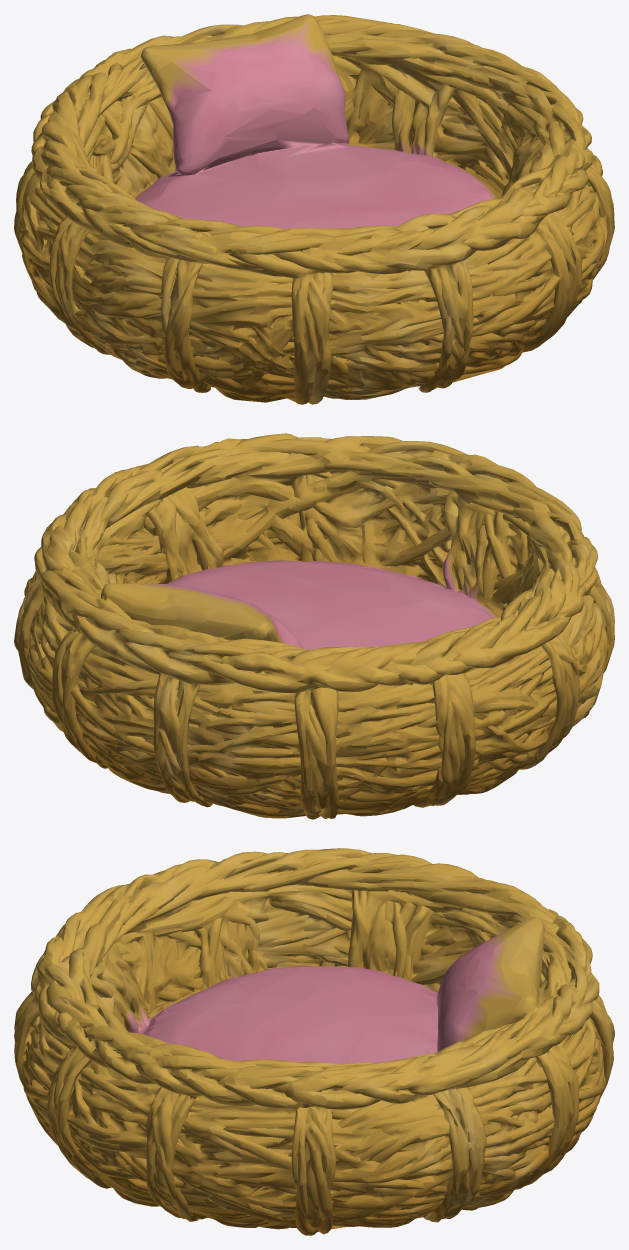
File: hayNest.glb
The picture shows the model from 3 angles, top to bottom: view 1: azimuth 30°, elevation 25°; view 2: azimuth 150°, elevation 25°; view 3: azimuth 270°, elevation 25°; orthographic projection.
Visible parts, largest first — view 1: low_poly_unwrapped; view 2: low_poly_unwrapped; view 3: low_poly_unwrapped.
Boxes of the visible parts, x1,y1,x2,y2 form: low_poly_unwrapped: [14, 14, 614, 404]; low_poly_unwrapped: [14, 433, 614, 819]; low_poly_unwrapped: [14, 848, 614, 1235].
Size of the model in its own units: 1 by 0.3446 by 1.
